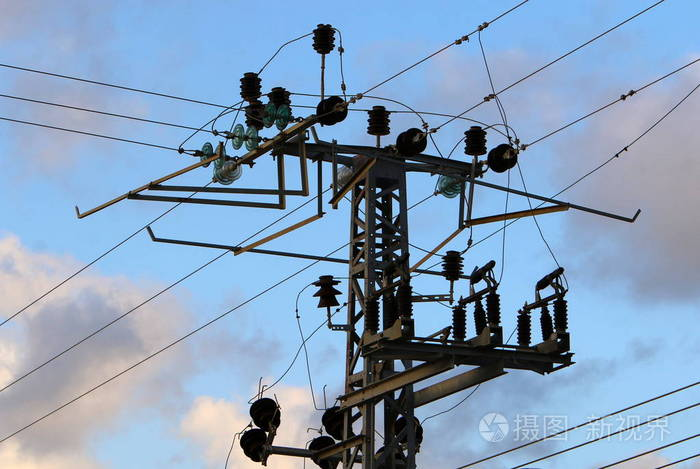insulator: (231, 121, 262, 152), (262, 102, 295, 130), (195, 142, 227, 167), (214, 156, 241, 184), (437, 175, 466, 199)
